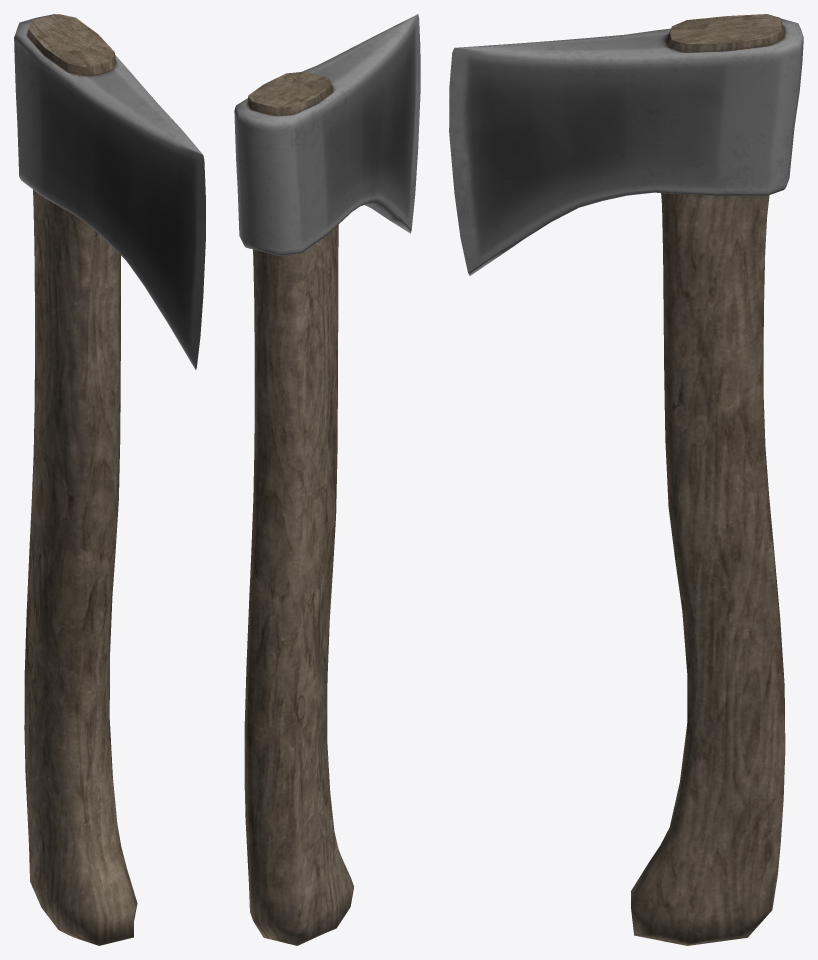
File: Axe.fbx
The picture shows the model from 3 angles, left to right: view 1: azimuth 30°, elevation 25°; view 2: azimuth 150°, elevation 25°; view 3: azimuth 270°, elevation 25°; orthographic projection. The views are drawn at different scales.
Visible parts, largest first — view 1: Axe; view 2: Axe; view 3: Axe.
Part boxes in pixels (x1,y1,x2,y2): Axe: [14, 14, 205, 945]; Axe: [234, 14, 420, 945]; Axe: [449, 14, 803, 945].
Size of the model in its own units: 5.14 by 64.12 by 22.6.
